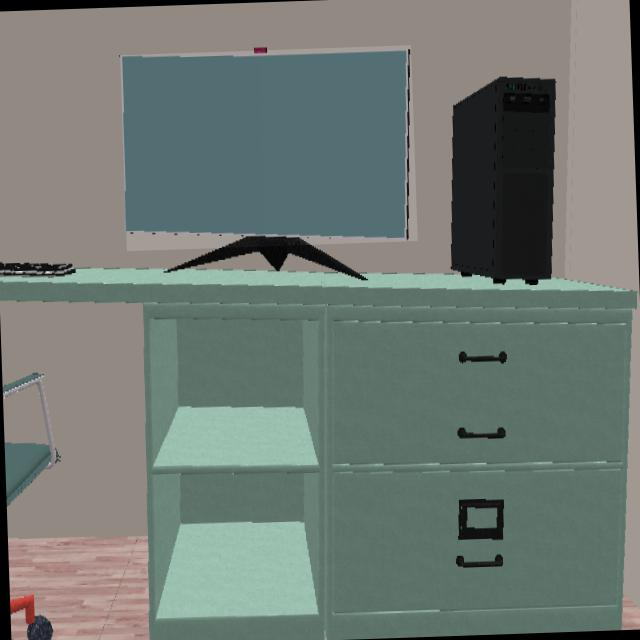cabinet: (143, 277, 639, 640)
chair: (4, 441, 59, 513)
monitor: (121, 51, 411, 241)
